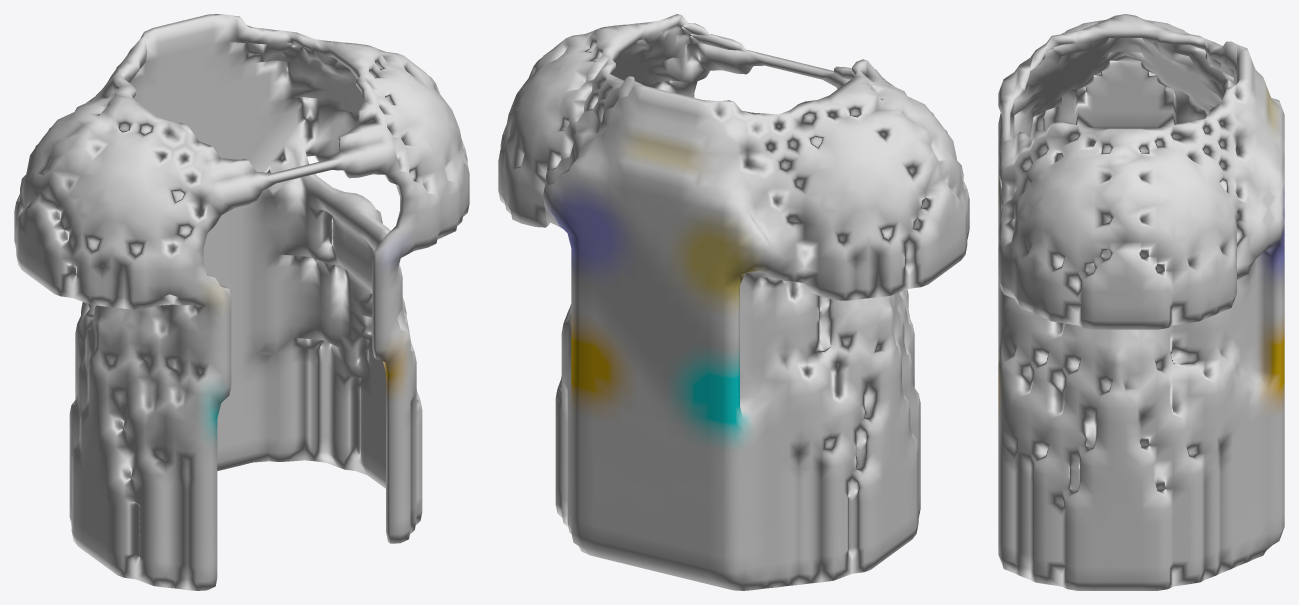
The picture shows the model from 3 angles, left to right: view 1: azimuth 30°, elevation 25°; view 2: azimuth 150°, elevation 25°; view 3: azimuth 270°, elevation 25°; orthographic projection. The views are drawn at different scales.
Bounding box in the file's own units: 1.5 × 1.59 × 0.9.
